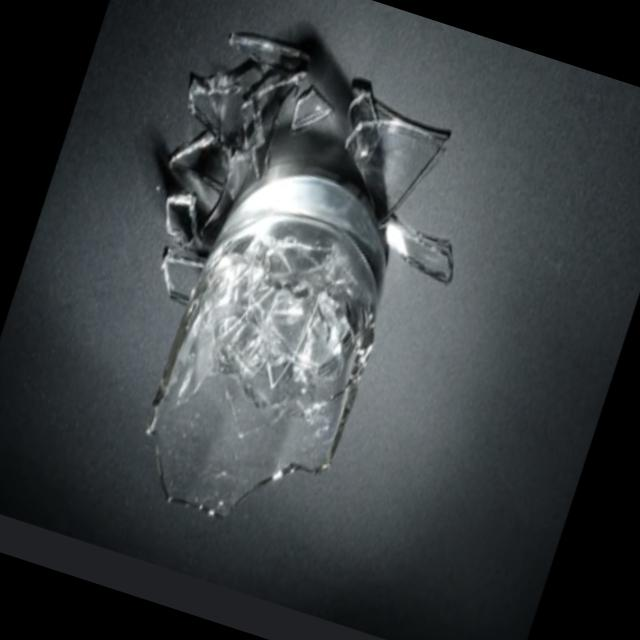PecahanKaca: (54, 12, 506, 570), (120, 141, 422, 554)
